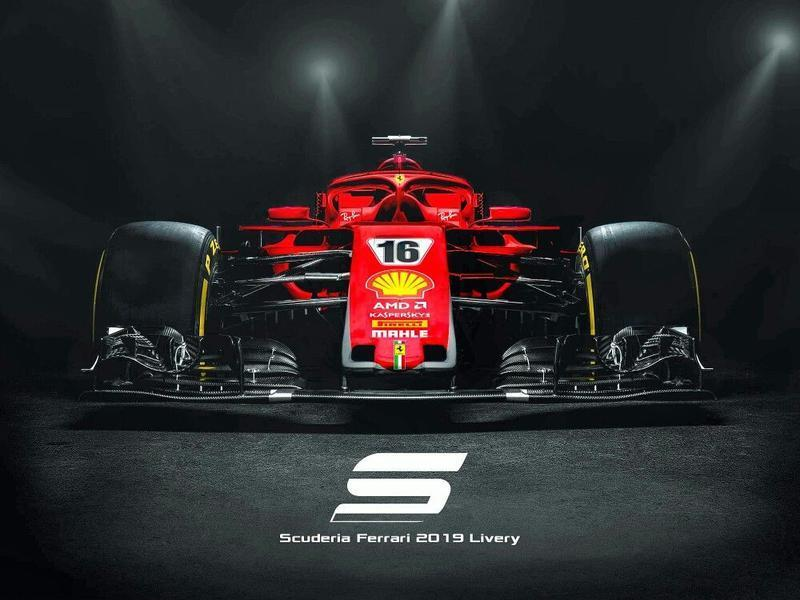f1: (86, 119, 725, 432)
